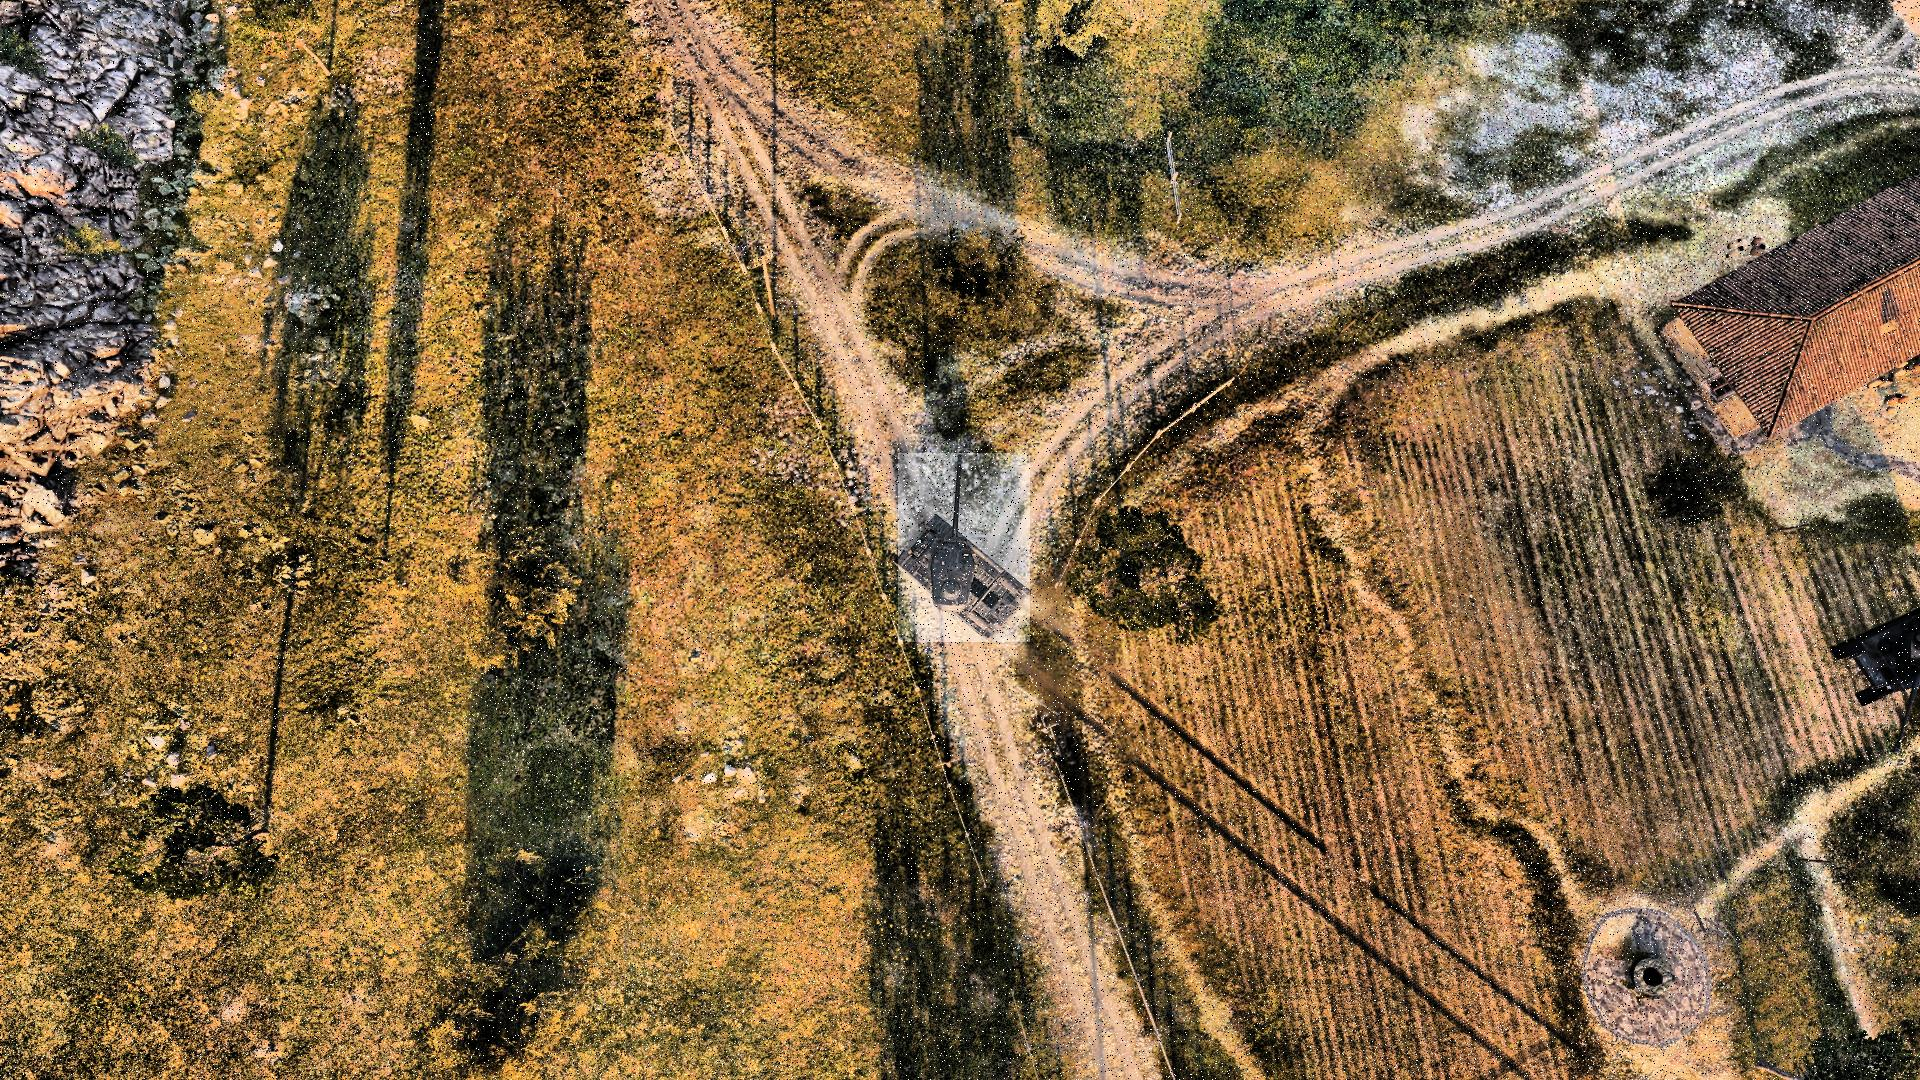military-vehicle: (898, 454, 1030, 642)
